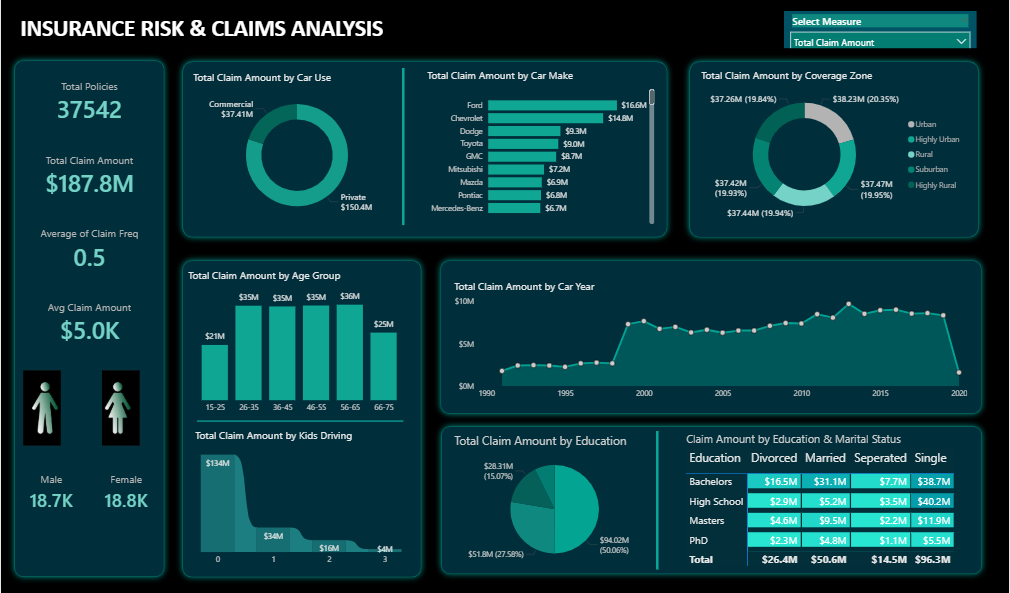

This screenshot's page, from the dashboard's own definition file:
{"tool":"powerbi","page":{"name":"Page 1","canvas":[1600,950],"ordinal":0},"visuals":[{"type":"textbox","box":[25.5,22.7,613.6,69.1],"z":0},{"type":"shape","box":[10.4,91.9,258.3,840.8],"z":1000},{"type":"cardVisual","fields":{"Data":["insurance_data_car.Total Policies","insurance_data_car.Total Claim Amount","Avg(insurance_data_car.Claim Freq)","insurance_data_car.Avg Claim Amount"]},"box":[36.4,114.4,208,459.4],"z":2000},{"type":"cardVisual","fields":{"Data":["insurance_data_car.Male","insurance_data_car.Female"]},"box":[26,731.6,228.8,110.9],"z":3000},{"type":"image","box":[0,589.4,130,130],"z":4000},{"type":"image","box":[124.8,589.4,130,130],"z":5000},{"type":"slicer","fields":{"Values":["Select Measure.Select Measure"]},"box":[1244.4,23.3,305.6,58.9],"z":6000},{"type":"shape","box":[277.4,93.6,790.5,299.9],"z":7000},{"type":"donutChart","fields":{"Y":["insurance_data_car.Total Claim Amount"],"Category":["insurance_data_car.Car Use"]},"box":[299.9,117.9,339.8,249.6],"z":8000},{"type":"clusteredBarChart","fields":{"Y":["insurance_data_car.Total Claim Amount"],"Category":["insurance_data_car.Car Make"]},"box":[672.6,114.4,371,253.1],"z":9000},{"type":"shape","box":[1083.6,93.6,480,300],"z":10000},{"type":"donutChart","fields":{"Y":["insurance_data_car.Total Claim Amount"],"Category":["insurance_data_car.Coverage Zone"]},"box":[1107.8,114.4,430,253.1],"z":11000},{"type":"shape","box":[277.4,409.1,400,523.5],"z":12000},{"type":"clusteredColumnChart","fields":{"Y":["insurance_data_car.Total Claim Amount"],"Category":["insurance_data_car.Age Group"]},"box":[293,431.7,364,240],"z":13000},{"type":"ribbonChart","fields":{"Y":["insurance_data_car.Total Claim Amount"],"Category":["insurance_data_car.Kids Driving"]},"box":[303.4,686.5,346.7,227.1],"z":14000},{"type":"shape","box":[688,410,880,264],"z":15000},{"type":"areaChart","fields":{"Y":["insurance_data_car.Total Claim Amount"],"Category":["insurance_data_car.Car Year"]},"box":[714.2,449,825,200],"z":16000},{"type":"shape","box":[690,674.4,878.9,254.8],"z":17000},{"type":"pieChart","fields":{"Y":["insurance_data_car.Total Claim Amount"],"Category":["insurance_data_car.Education"]},"box":[714.2,693.4,329.4,220.2],"z":18000},{"type":"pivotTable","title":"Claim Amount by Education & Marital Status","fields":{"Columns":["insurance_data_car.Marital Status"],"Rows":["insurance_data_car.Education"],"Values":["insurance_data_car.Total Claim Amount"]},"box":[1083.5,691.7,457.7,220.2],"z":19000},{"type":"shape","box":[312,655.3,327.6,41.6],"z":20000},{"type":"shape","box":[605,114.4,67.6,249.6],"z":21000},{"type":"shape","box":[1008.9,691.7,67.6,220.2],"z":22000}]}

Visuals, with their boxes in screenshot pixels (x1, y1, x2, y2), scaled from the page's 1600x950 canvas onto the 1010x593 screenshot:
textbox: (16, 14, 403, 57)
shape: (7, 57, 170, 582)
cardVisual - insurance_data_car.Total Policies x insurance_data_car.Total Claim Amount: (23, 71, 154, 358)
cardVisual - insurance_data_car.Male x insurance_data_car.Female: (16, 457, 161, 526)
image: (0, 368, 82, 449)
image: (79, 368, 161, 449)
slicer - Select Measure.Select Measure: (786, 15, 978, 51)
shape: (175, 58, 674, 246)
donutChart - insurance_data_car.Total Claim Amount x insurance_data_car.Car Use: (189, 74, 404, 229)
clusteredBarChart - insurance_data_car.Total Claim Amount x insurance_data_car.Car Make: (425, 71, 659, 229)
shape: (684, 58, 987, 246)
donutChart - insurance_data_car.Total Claim Amount x insurance_data_car.Coverage Zone: (699, 71, 971, 229)
shape: (175, 255, 428, 582)
clusteredColumnChart - insurance_data_car.Total Claim Amount x insurance_data_car.Age Group: (185, 269, 415, 419)
ribbonChart - insurance_data_car.Total Claim Amount x insurance_data_car.Kids Driving: (192, 429, 410, 570)
shape: (434, 256, 990, 421)
areaChart - insurance_data_car.Total Claim Amount x insurance_data_car.Car Year: (451, 280, 972, 405)
shape: (436, 421, 990, 580)
pieChart - insurance_data_car.Total Claim Amount x insurance_data_car.Education: (451, 433, 659, 570)
"Claim Amount by Education & Marital Status" pivotTable: (684, 432, 973, 569)
shape: (197, 409, 404, 435)
shape: (382, 71, 425, 227)
shape: (637, 432, 680, 569)
